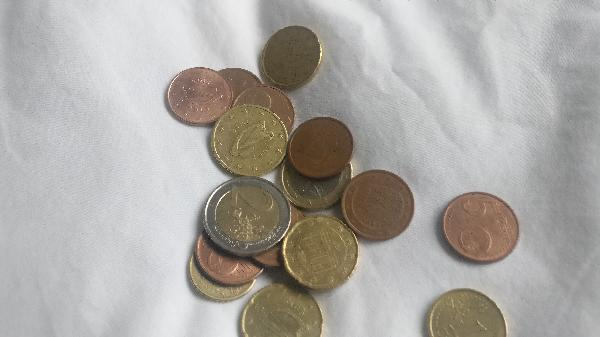Fifty Cent: (215, 110, 287, 171)
Five Cent: (443, 191, 520, 264), (349, 172, 412, 241), (291, 117, 353, 180), (196, 234, 268, 283), (166, 67, 230, 122), (233, 85, 293, 141)
One Euro: (281, 155, 353, 208)
Twenty Cent: (286, 215, 359, 291), (237, 285, 323, 337), (426, 286, 511, 337), (259, 27, 328, 89)
Two Euro: (204, 175, 291, 255)
